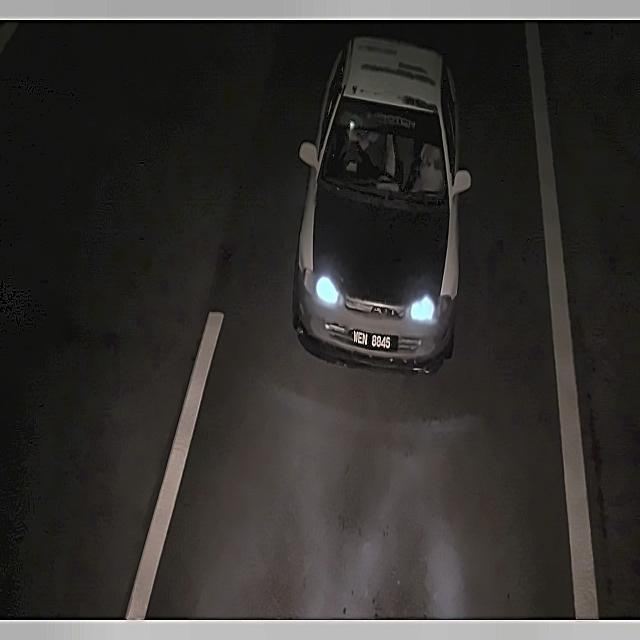car: (346, 324, 398, 359)
